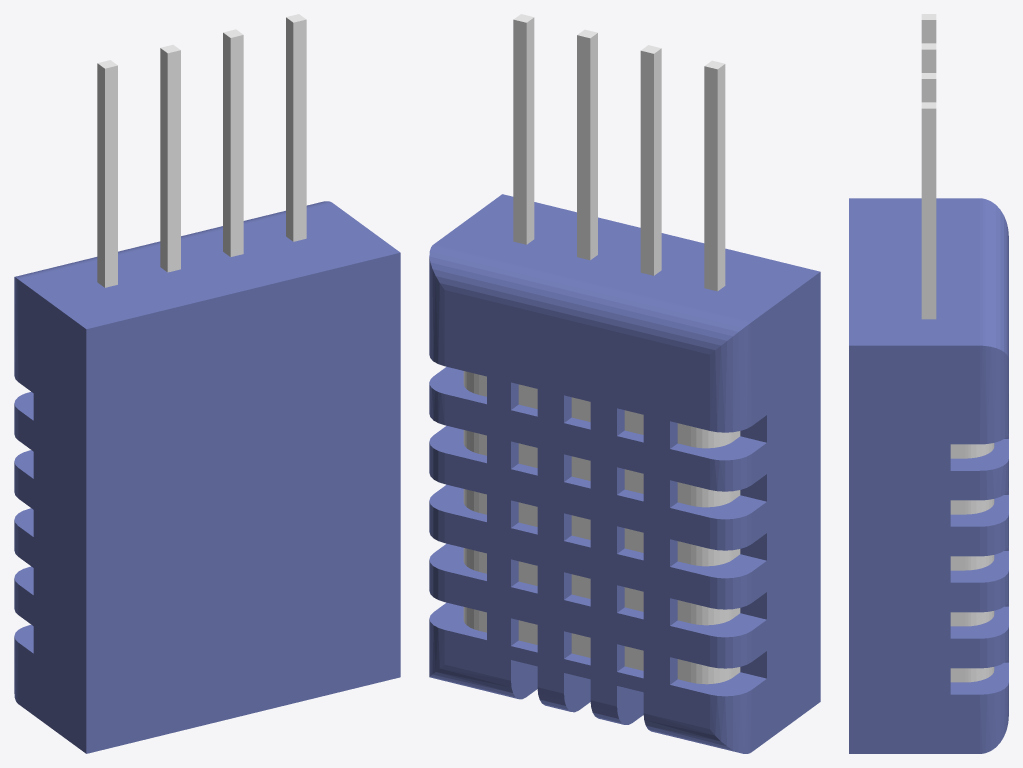
The model's file is dht11.fbx.
The picture shows the model from 3 angles, left to right: view 1: azimuth 30°, elevation 25°; view 2: azimuth 150°, elevation 25°; view 3: azimuth 270°, elevation 25°; orthographic projection. The views are drawn at different scales.
Parts seen in each view (by area): view 1: SketchUp, SketchUp.001, SketchUp.004, SketchUp.002, SketchUp.003; view 2: SketchUp, SketchUp.005, SketchUp.001, SketchUp.003, SketchUp.004, SketchUp.002; view 3: SketchUp, SketchUp.004, SketchUp.005, SketchUp.001, SketchUp.002, SketchUp.003.
Boxes of the visible parts, x1,y1,x2,y2 form: SketchUp: [14, 201, 400, 753]; SketchUp.001: [160, 44, 180, 272]; SketchUp.004: [286, 14, 306, 241]; SketchUp.002: [223, 29, 243, 256]; SketchUp.003: [97, 60, 117, 287]; SketchUp: [429, 194, 820, 753]; SketchUp.005: [463, 371, 740, 684]; SketchUp.001: [640, 45, 661, 275]; SketchUp.003: [704, 60, 725, 291]; SketchUp.004: [513, 14, 534, 244]; SketchUp.002: [577, 29, 597, 260]; SketchUp: [849, 198, 1008, 753]; SketchUp.004: [921, 102, 936, 319]; SketchUp.005: [950, 443, 994, 682]; SketchUp.001: [921, 43, 936, 72]; SketchUp.002: [921, 73, 936, 102]; SketchUp.003: [921, 14, 936, 43].
Size of the model in its own units: 417 by 816 by 191.
